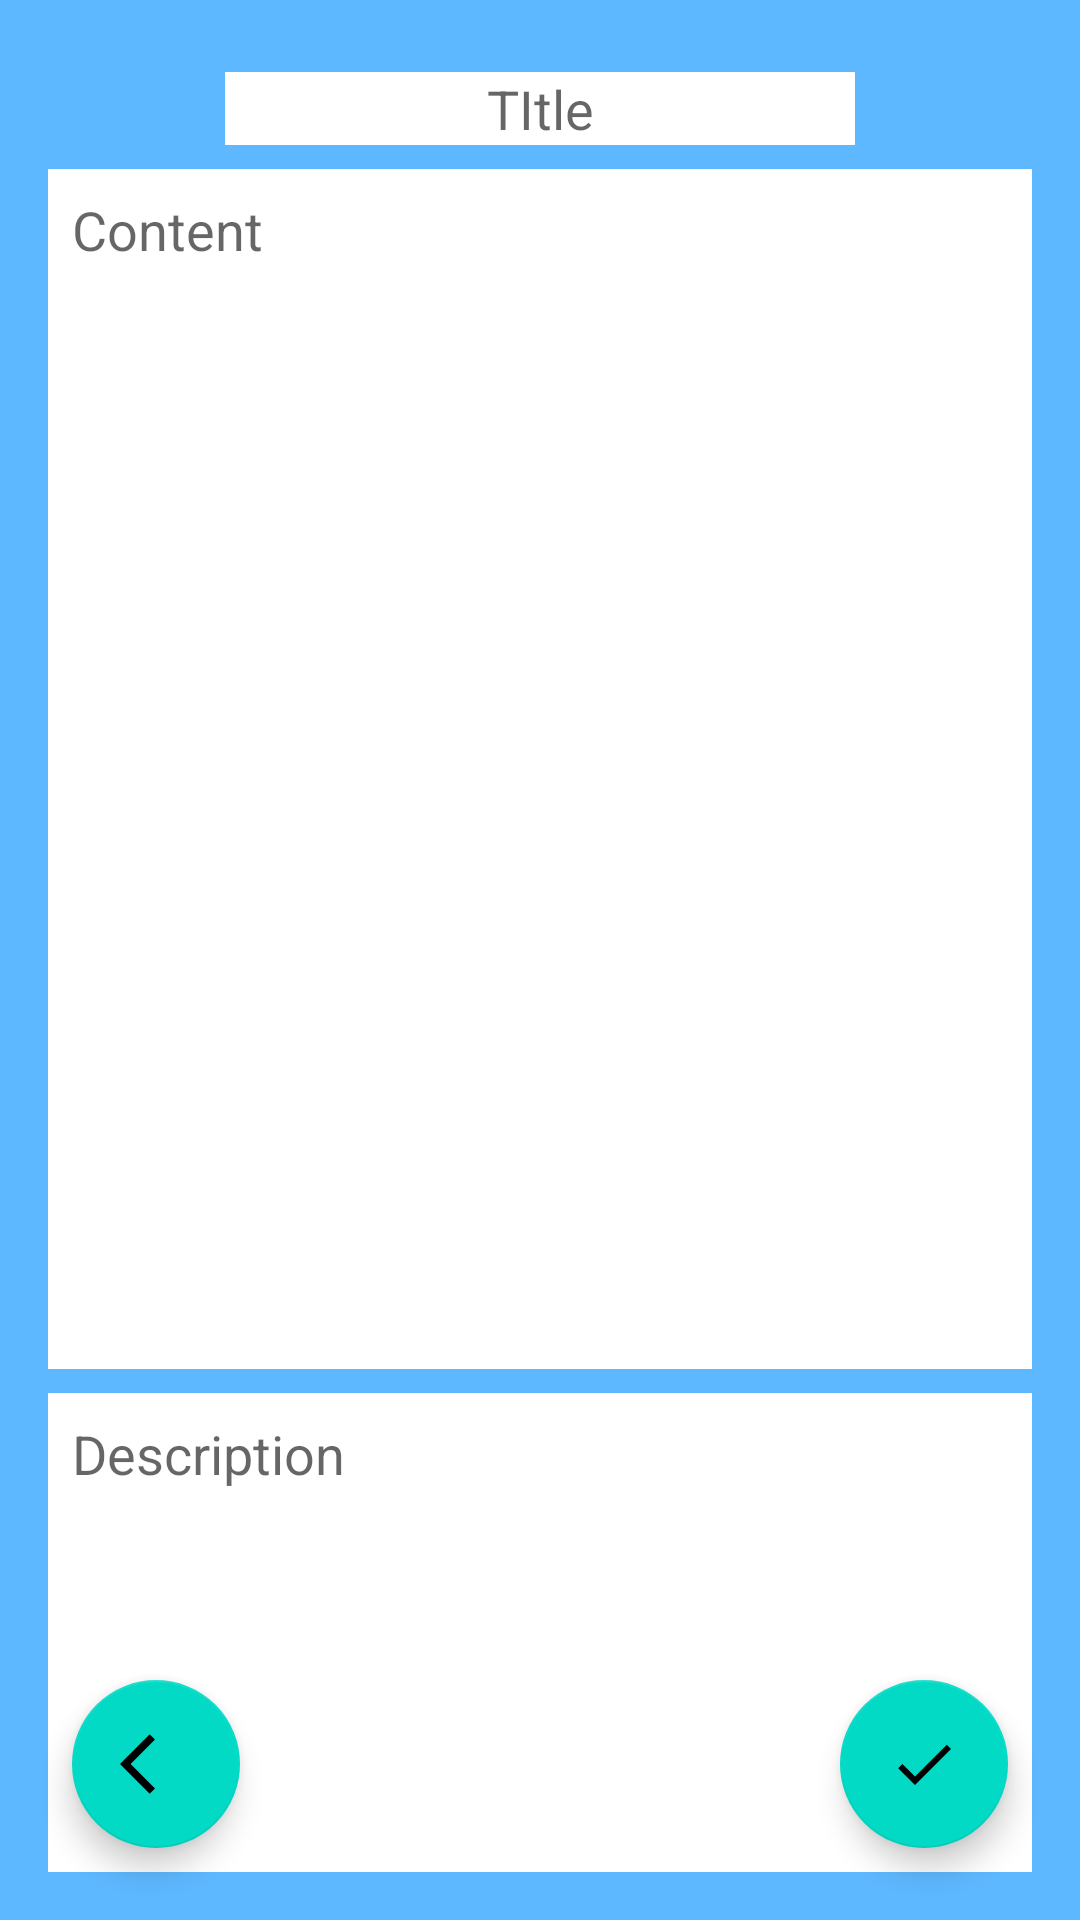

Icons on this 1080 × 1920 Android screen, each with its box as (x1, y1, x2, y2):
arrow back: (72, 1680, 240, 1848)
done: (840, 1680, 1008, 1848)
